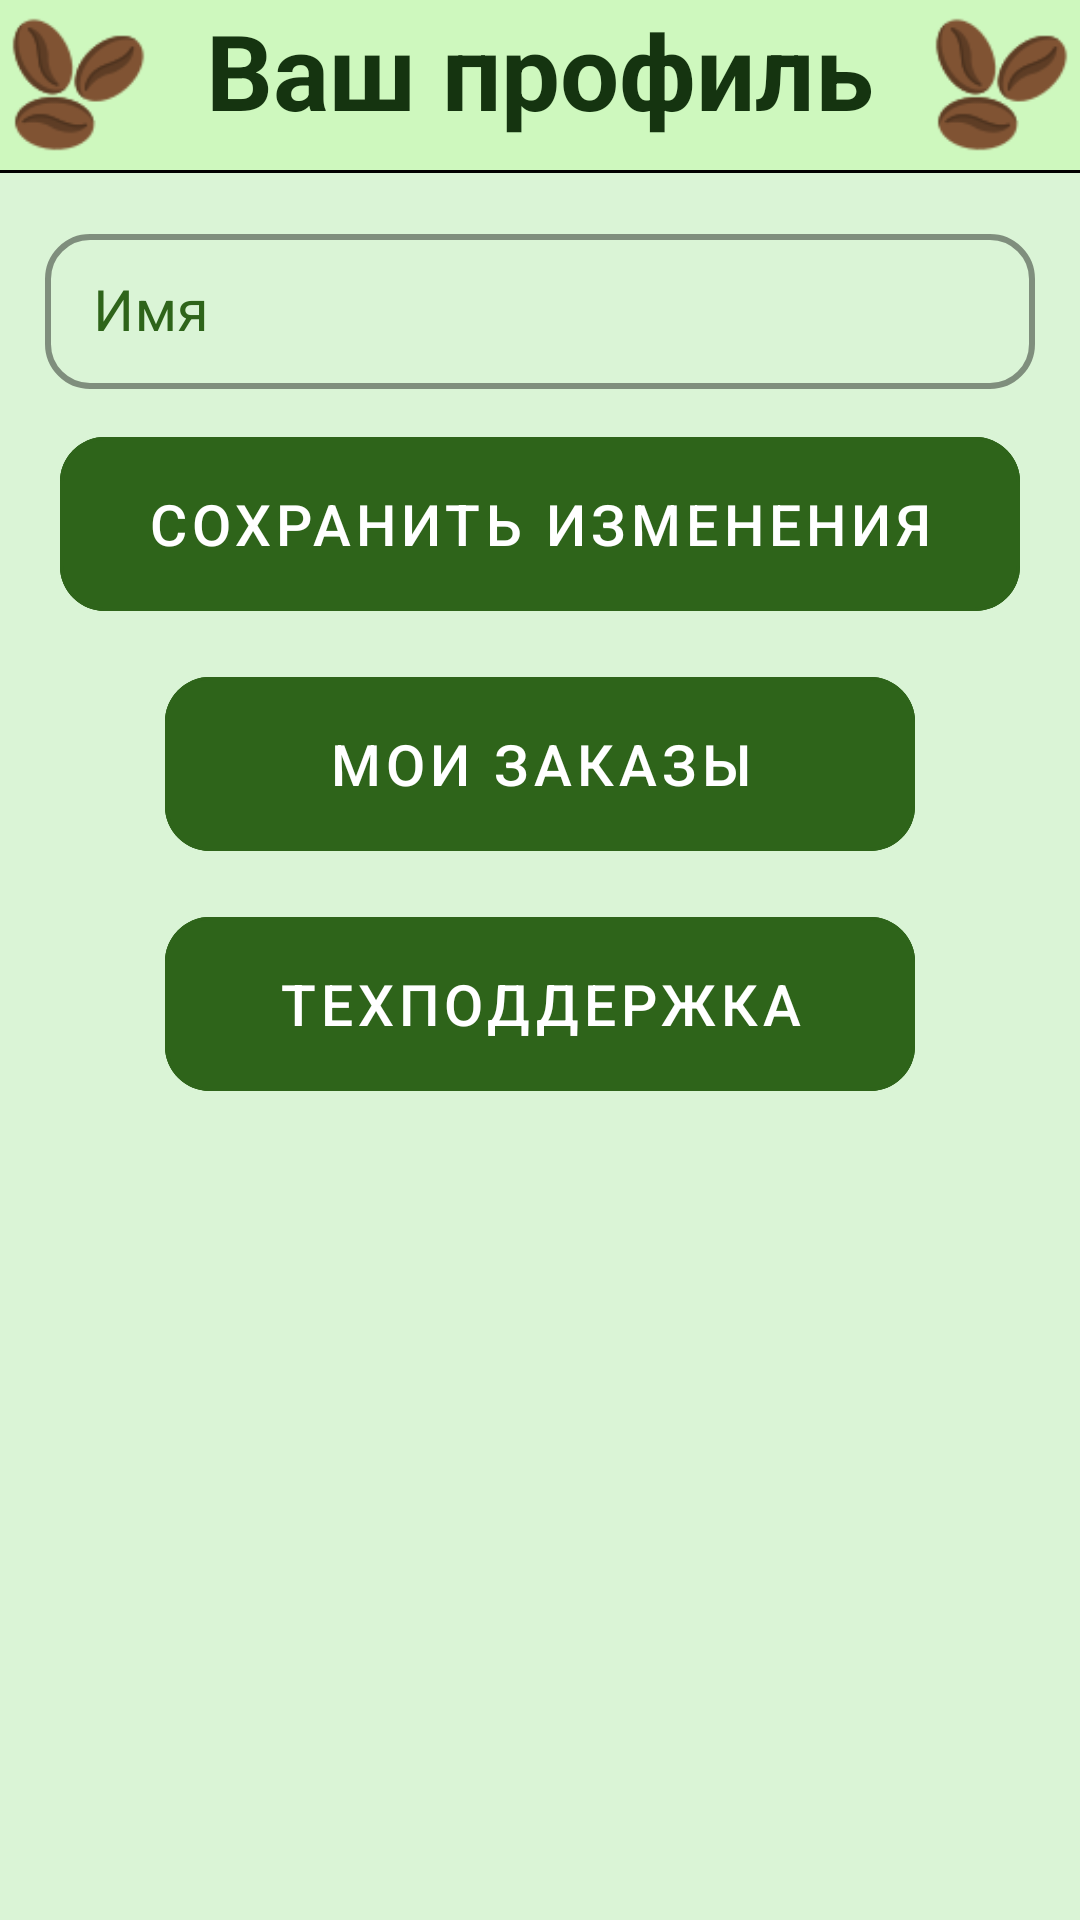

Icon click points for this 1080 × 1920 phone screenshot, format [x,y]:
coffee beans: [78,85], [1001,85]
